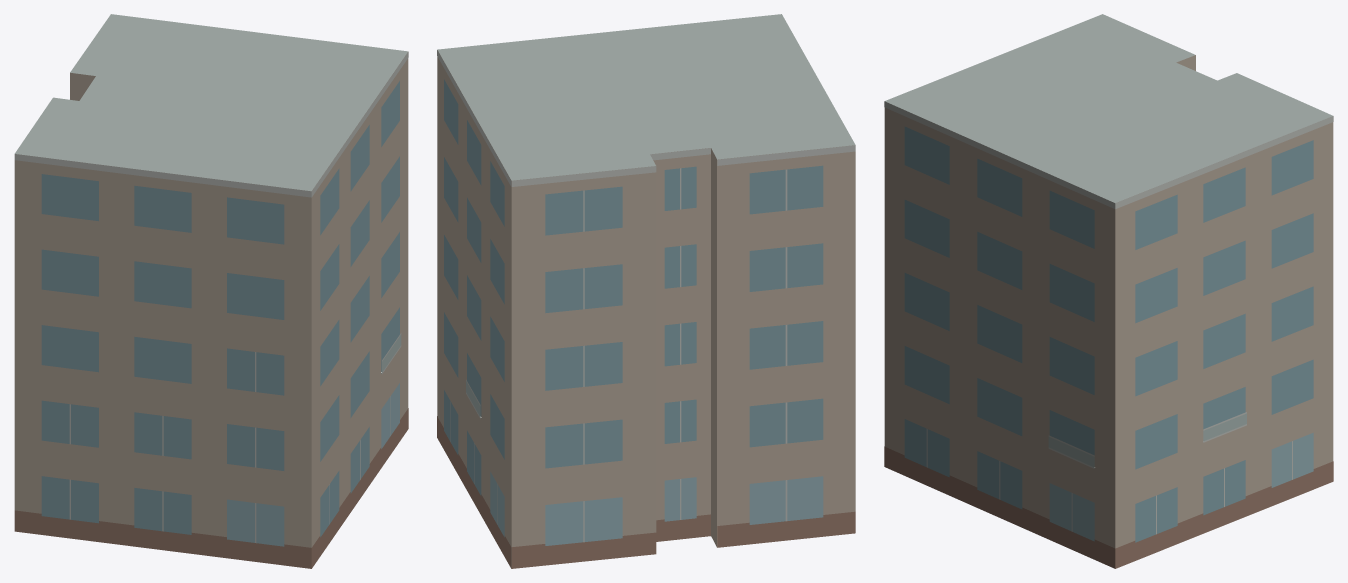
Rendered from survey-upis-32714694.glb.
The picture shows the model from 3 angles, left to right: view 1: azimuth 30°, elevation 25°; view 2: azimuth 150°, elevation 25°; view 3: azimuth 270°, elevation 25°; orthographic projection. The views are drawn at different scales.
Parts seen in each view (by area): view 1: survey-upis-32714694.tmp; view 2: survey-upis-32714694.tmp; view 3: survey-upis-32714694.tmp.
Boxes of the visible parts, x1,y1,x2,y2 form: survey-upis-32714694.tmp: (14,14,408,568); survey-upis-32714694.tmp: (437,14,855,568); survey-upis-32714694.tmp: (884,14,1333,568).
Size of the model in its own units: 16.32 by 14.7 by 16.37.
